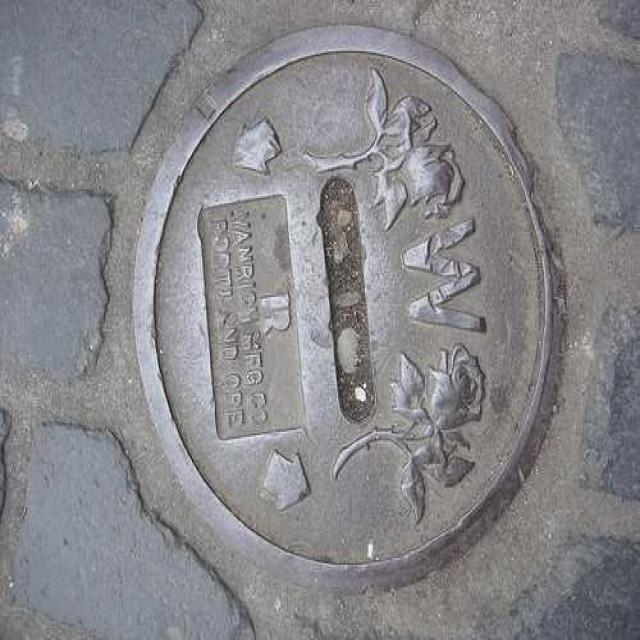manhole: (134, 27, 551, 589)
